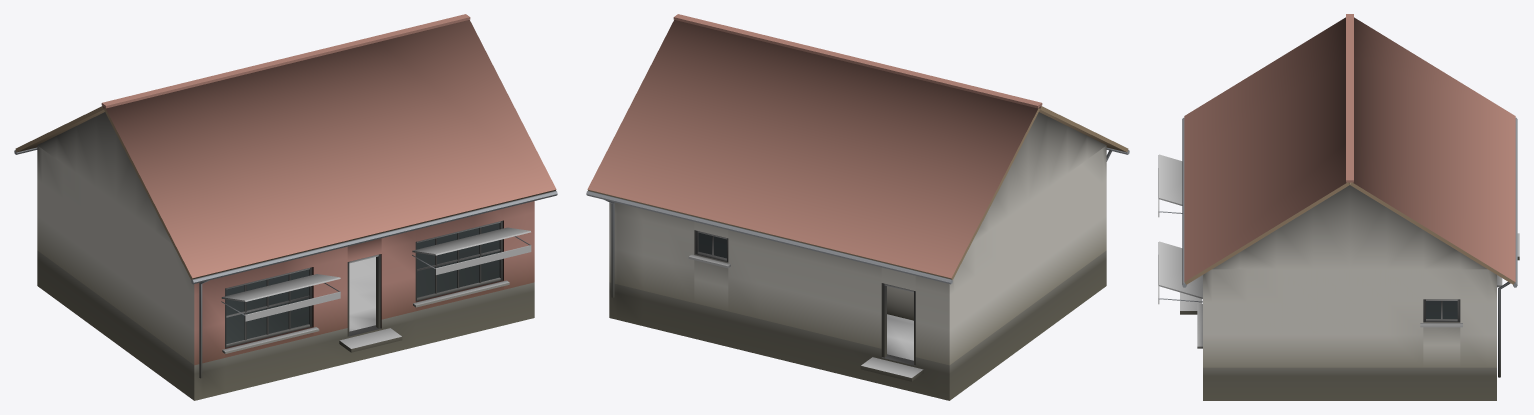
The model's file is shop.glb.
3 renders of one model, left to right at view 1: azimuth 30°, elevation 25°; view 2: azimuth 150°, elevation 25°; view 3: azimuth 270°, elevation 25°, orthographic. The views are drawn at different scales.
Parts seen in each view (by area): view 1: shop; view 2: shop; view 3: shop.
Part boxes in pixels (box(x1,y1,x2,y2)): shop: box(14, 14, 557, 400); shop: box(586, 14, 1129, 400); shop: box(1158, 14, 1519, 400).
Size of the model in its own units: 10.7 by 6.79 by 9.84.
